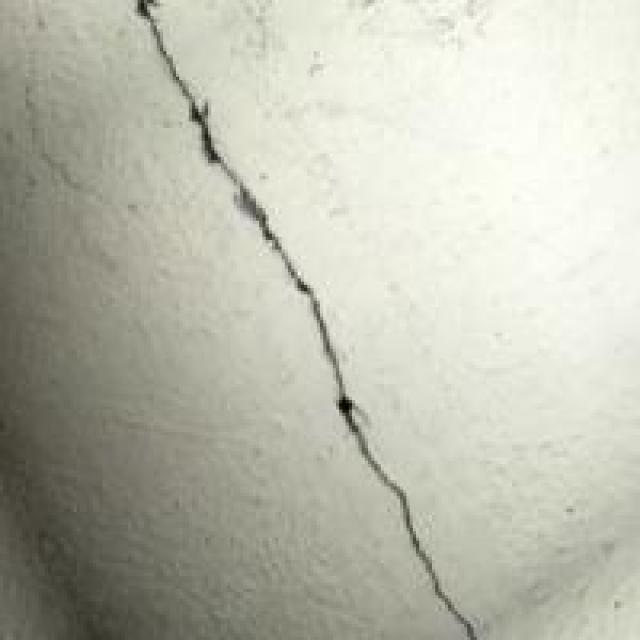Crack: (122, 0, 586, 637)
